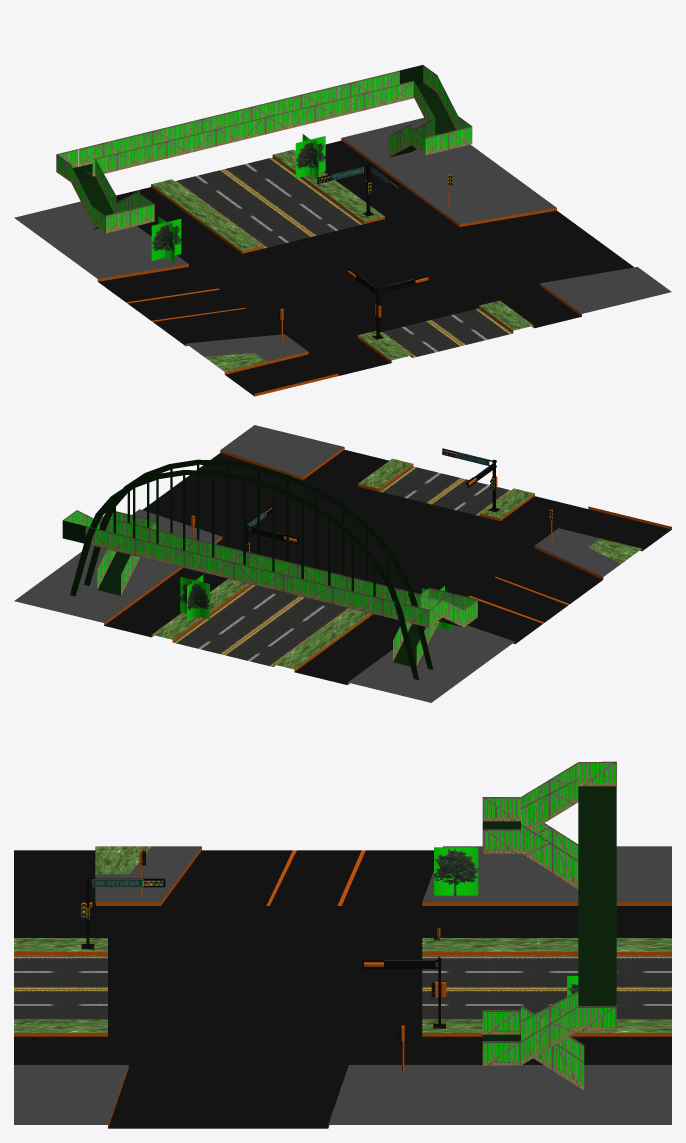
Rendered from 02_refsep_n.obj.
3 views of the same model, one above another, from view 1: azimuth 30°, elevation 25°; view 2: azimuth 150°, elevation 25°; view 3: azimuth 270°, elevation 25° (orthographic). The views are drawn at different scales.
Visible parts, largest first — view 1: 02_refsep_n_Grid.004, pz_bridge_05_bridge.002_Plane.014, pz_semaf_03_prekfc_Plane.001; view 2: 02_refsep_n_Grid.004, pz_bridge_05_bridge.002_Plane.014, pz_semaf_03_prekfc_Plane.001; view 3: 02_refsep_n_Grid.004, pz_bridge_05_bridge.002_Plane.014, pz_semaf_03_prekfc_Plane.001.
Boxes of the visible parts, bbox=[...] form: 02_refsep_n_Grid.004: bbox=[14, 118, 671, 396]; pz_bridge_05_bridge.002_Plane.014: bbox=[56, 65, 472, 233]; pz_semaf_03_prekfc_Plane.001: bbox=[278, 164, 452, 342]; 02_refsep_n_Grid.004: bbox=[14, 425, 671, 702]; pz_bridge_05_bridge.002_Plane.014: bbox=[62, 459, 477, 679]; pz_semaf_03_prekfc_Plane.001: bbox=[191, 448, 552, 552]; 02_refsep_n_Grid.004: bbox=[14, 846, 671, 1128]; pz_bridge_05_bridge.002_Plane.014: bbox=[482, 761, 616, 1090]; pz_semaf_03_prekfc_Plane.001: bbox=[81, 850, 446, 1071].
Bounding box in the file's own units: 16.03 × 6.04 × 16.
